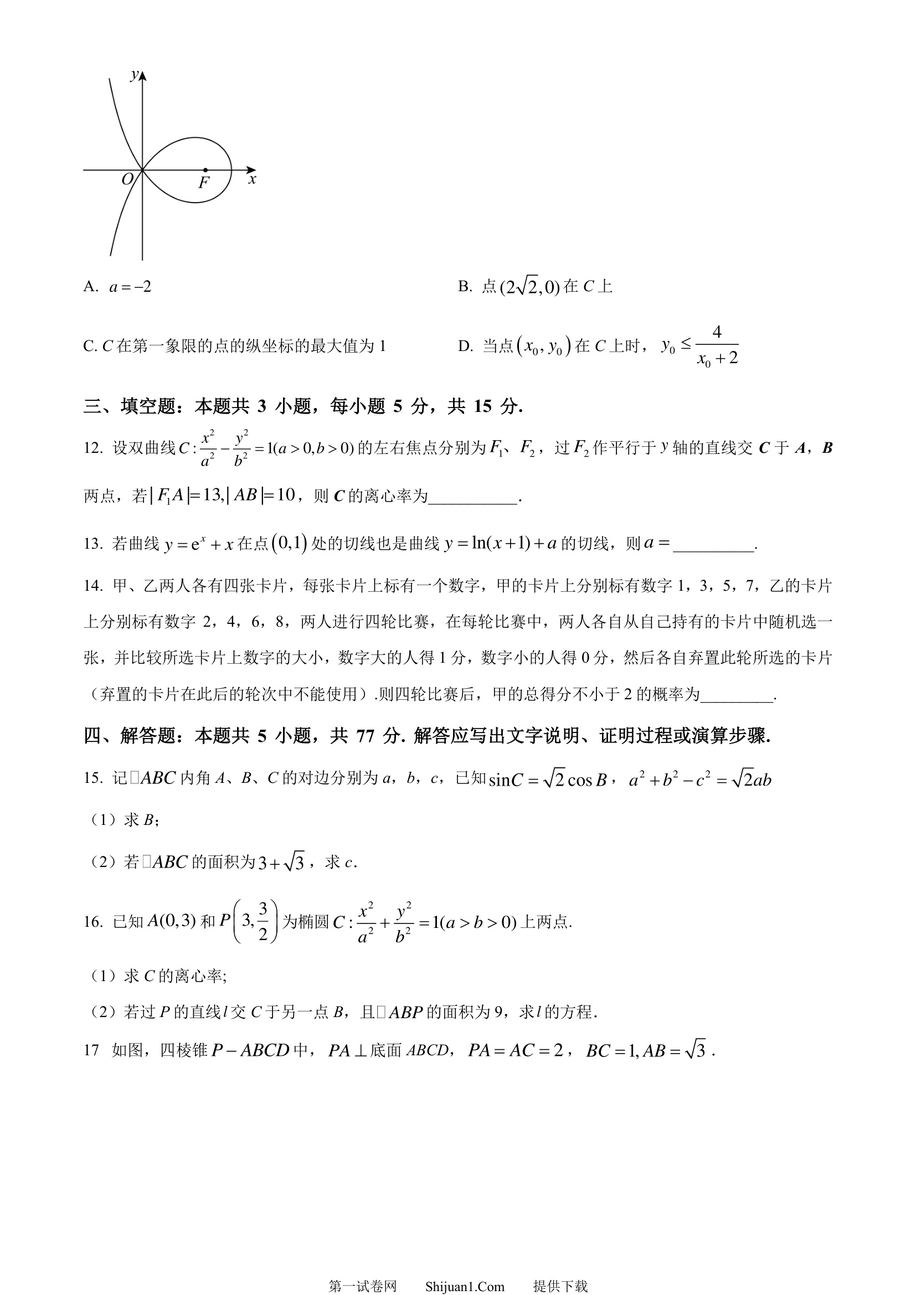question: (75, 54, 769, 384), (73, 567, 853, 714), (75, 759, 819, 894), (78, 897, 643, 1031), (75, 430, 848, 516), (70, 1034, 759, 1089), (78, 519, 807, 564)
